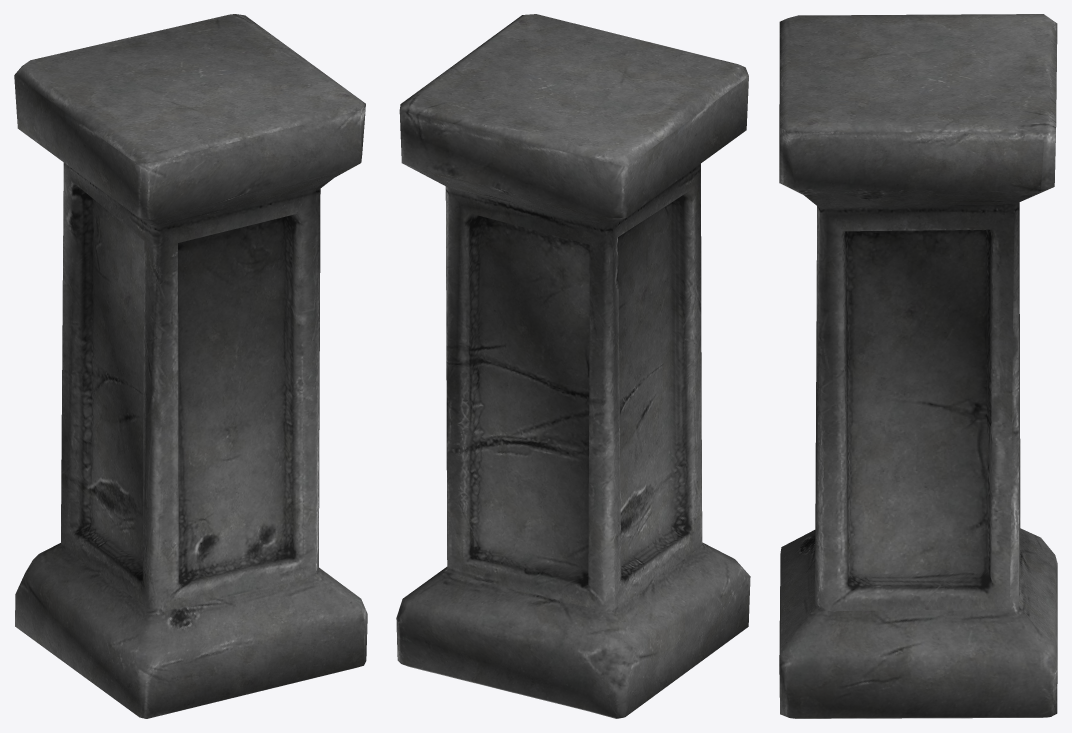
The model's file is stone_pillar.glb.
3 renders of one model, left to right at view 1: azimuth 30°, elevation 25°; view 2: azimuth 150°, elevation 25°; view 3: azimuth 270°, elevation 25°, orthographic. The views are drawn at different scales.
Visible parts, largest first — view 1: Pillar_lp_polypen_Pillar_hp_polypen.002; view 2: Pillar_lp_polypen_Pillar_hp_polypen.002; view 3: Pillar_lp_polypen_Pillar_hp_polypen.002.
Part boxes in pixels (x1,y1,x2,y2): Pillar_lp_polypen_Pillar_hp_polypen.002: (14,14,367,718); Pillar_lp_polypen_Pillar_hp_polypen.002: (396,14,750,718); Pillar_lp_polypen_Pillar_hp_polypen.002: (779,14,1057,718).
Size of the model in its own units: 0.8474 by 2 by 0.8466.
Materials: 1 (1 with a texture image).
